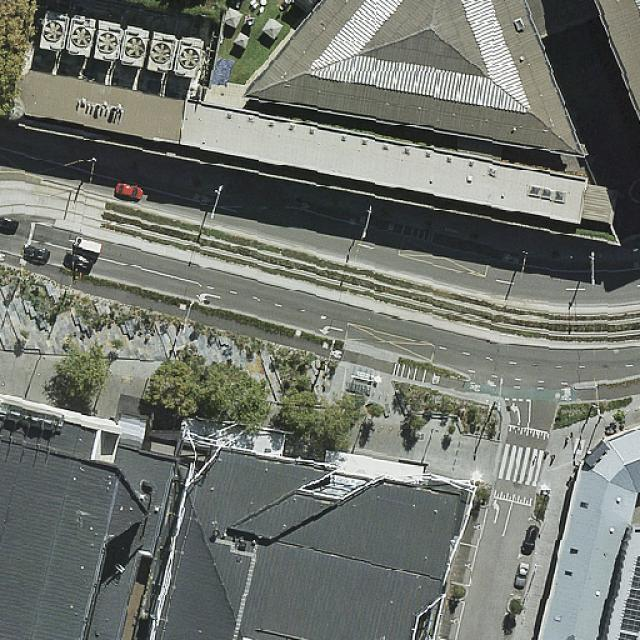Bike-Symbols: (331, 349, 343, 358), (560, 393, 573, 401), (469, 384, 481, 392), (504, 254, 514, 262), (200, 195, 211, 202), (301, 202, 310, 210), (0, 253, 6, 261)
